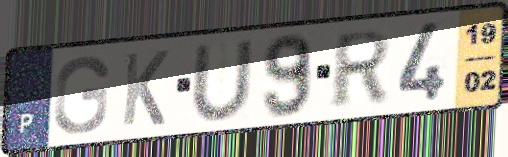4: (395, 18, 453, 104)
9: (257, 30, 314, 121)
G: (51, 53, 112, 136)
K: (119, 48, 171, 129)
R: (326, 27, 394, 111)
U: (188, 37, 256, 124)
